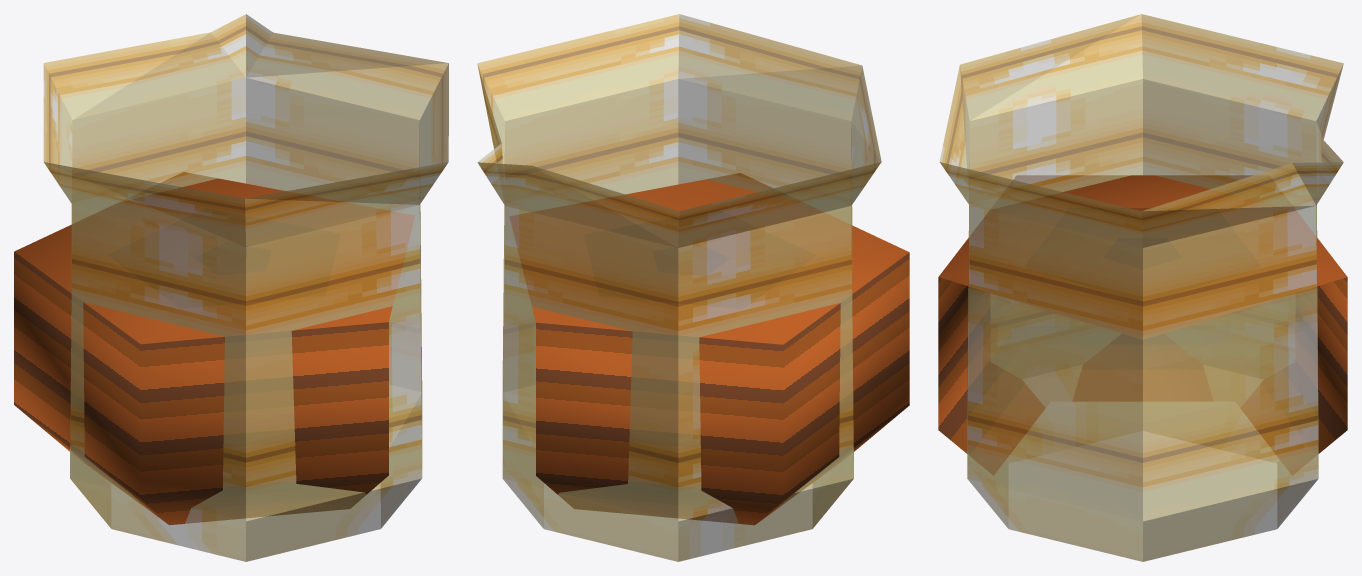
File: 2775item2775.gltf
The picture shows the model from 3 angles, left to right: view 1: azimuth 30°, elevation 25°; view 2: azimuth 150°, elevation 25°; view 3: azimuth 270°, elevation 25°; orthographic projection.
Parts seen in each view (by area): view 1: 2775item2775; view 2: 2775item2775; view 3: 2775item2775.
Part boxes in pixels (<box>): 2775item2775: <box>14,14,448,561</box>; 2775item2775: <box>477,14,909,561</box>; 2775item2775: <box>938,14,1347,561</box>.
Bounding box in the file's own units: 0.6033 × 0.551 × 0.5288.
2 materials, 2 textured.
